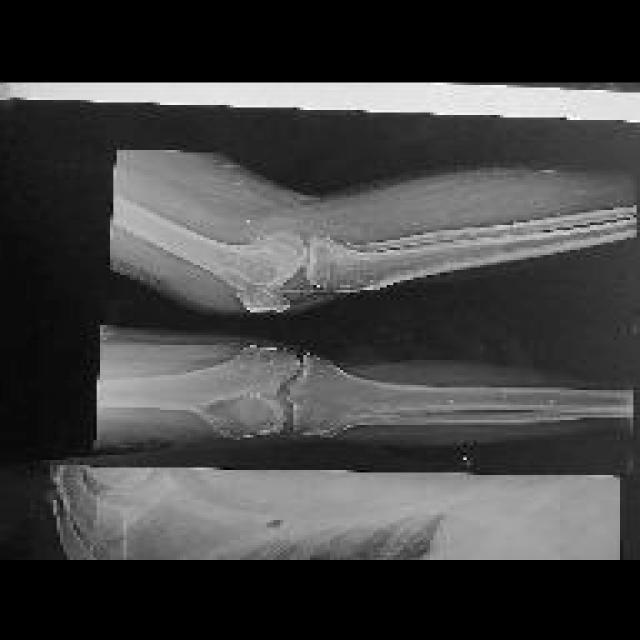bone-cancer: (202, 392, 283, 439)
